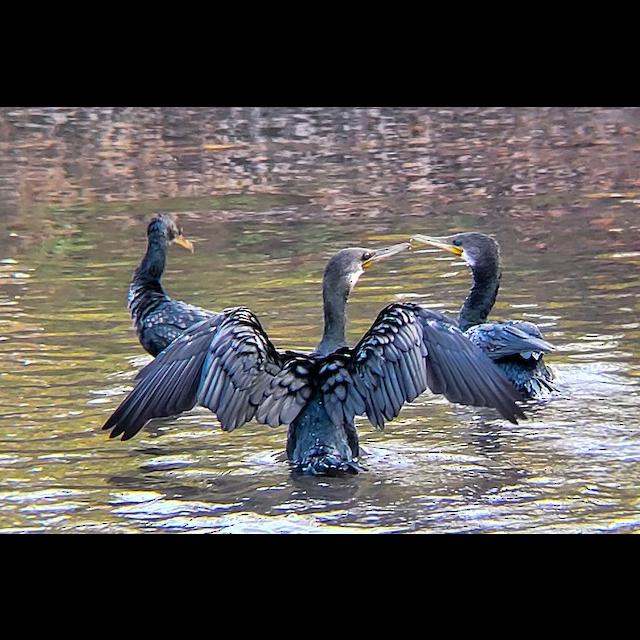cormorant: (98, 235, 532, 482), (414, 216, 568, 400), (125, 207, 232, 349)
